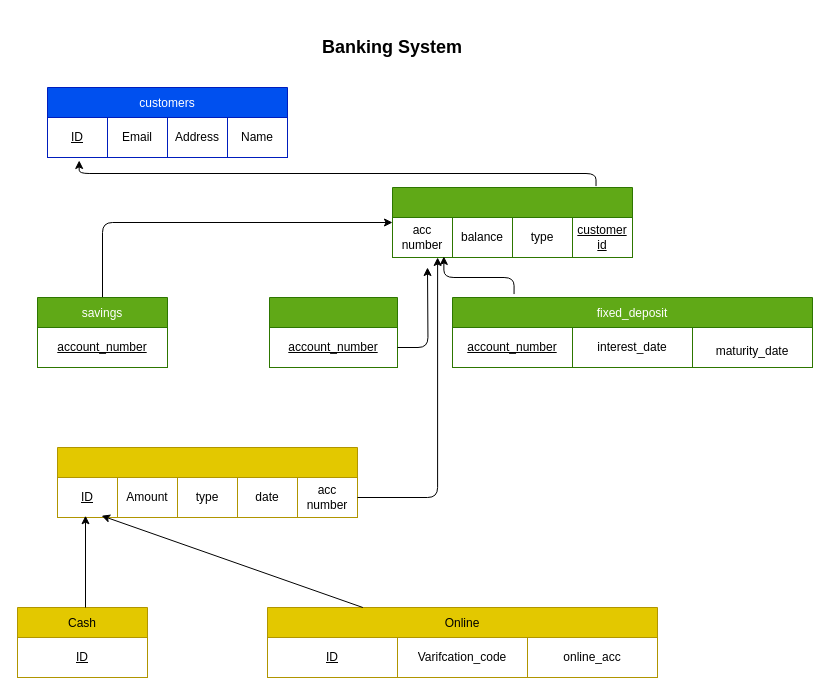
Image size: 830x695. Some labels were removed from this diagram. The shapes that lost their labels are listed below. From the top down, each one's box as (x1, y1, x2, y2) in pixels, then its label:
(392, 186, 632, 258): accounts
(268, 296, 398, 368): checking
(56, 446, 358, 518): transactions
